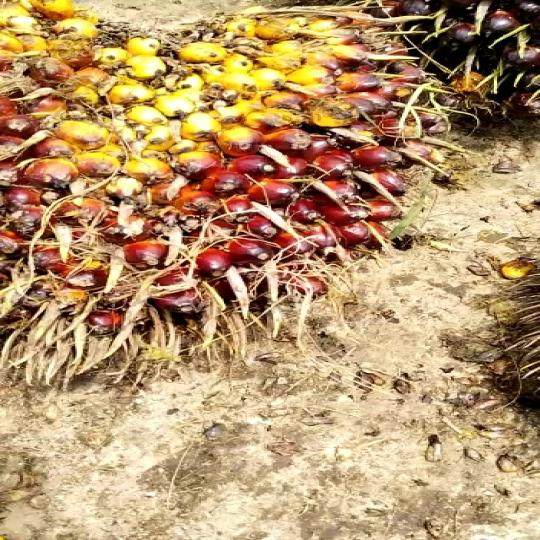masak: (0, 0, 451, 386)
